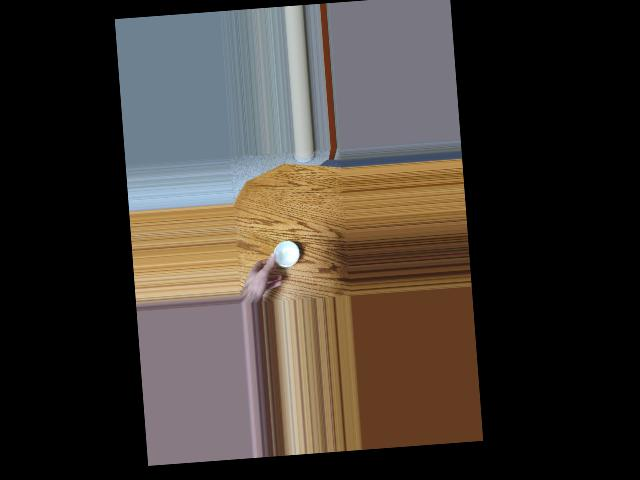cotage: (267, 236, 302, 271)
